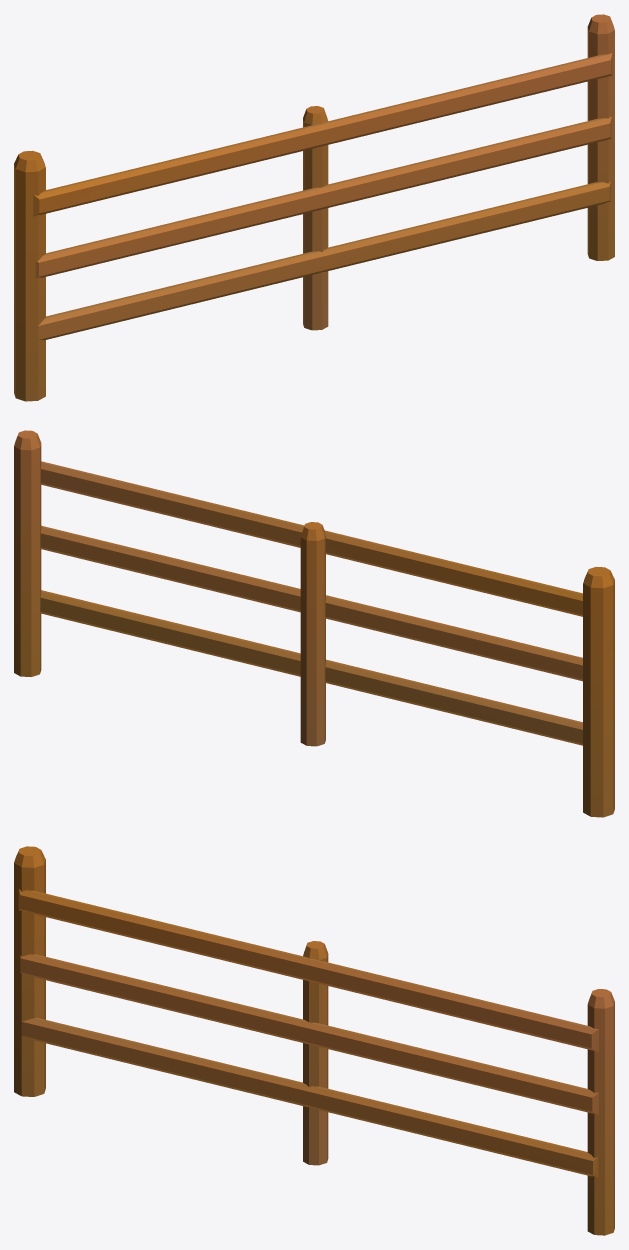
The model's file is Farm_Fence_3m.glb.
3 renders of one model, top to bottom at view 1: azimuth 30°, elevation 25°; view 2: azimuth 150°, elevation 25°; view 3: azimuth 330°, elevation 25°, orthographic.
Visible parts, largest first — view 1: Farm_Fence_3m; view 2: Farm_Fence_3m; view 3: Farm_Fence_3m.
Boxes of the visible parts, x1,y1,x2,y2 form: Farm_Fence_3m: (14,14,614,401); Farm_Fence_3m: (14,430,614,817); Farm_Fence_3m: (14,846,614,1235).
Size of the model in its own units: 3.14 by 1.2 by 0.162.
